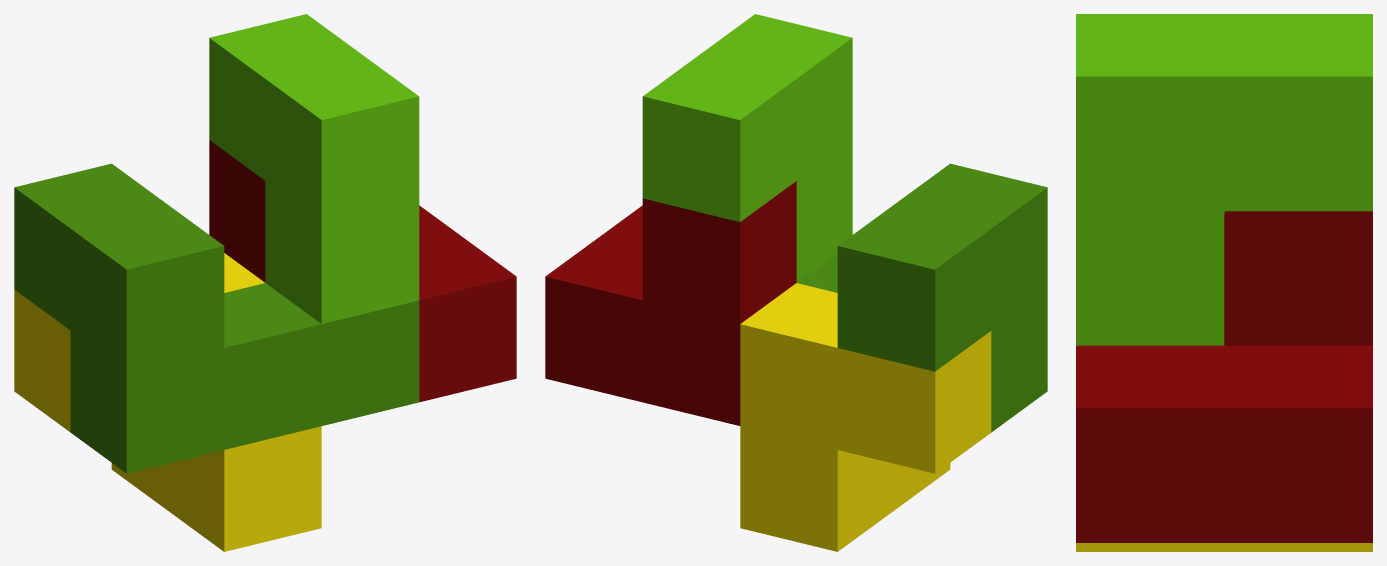
3 views of the same model, side by side, from view 1: azimuth 30°, elevation 25°; view 2: azimuth 150°, elevation 25°; view 3: azimuth 270°, elevation 25° (orthographic). The views are drawn at different scales.
Parts seen in each view (by area): view 1: mergedBlocks(Clone); view 2: mergedBlocks(Clone); view 3: mergedBlocks(Clone).
Part boxes in pixels (x1,y1,x2,y2): mergedBlocks(Clone): (14,14,516,551); mergedBlocks(Clone): (545,14,1047,551); mergedBlocks(Clone): (1076,14,1372,551).
Bounding box in the file's own units: 4 × 4 × 2.
4 materials, 4 textured.
